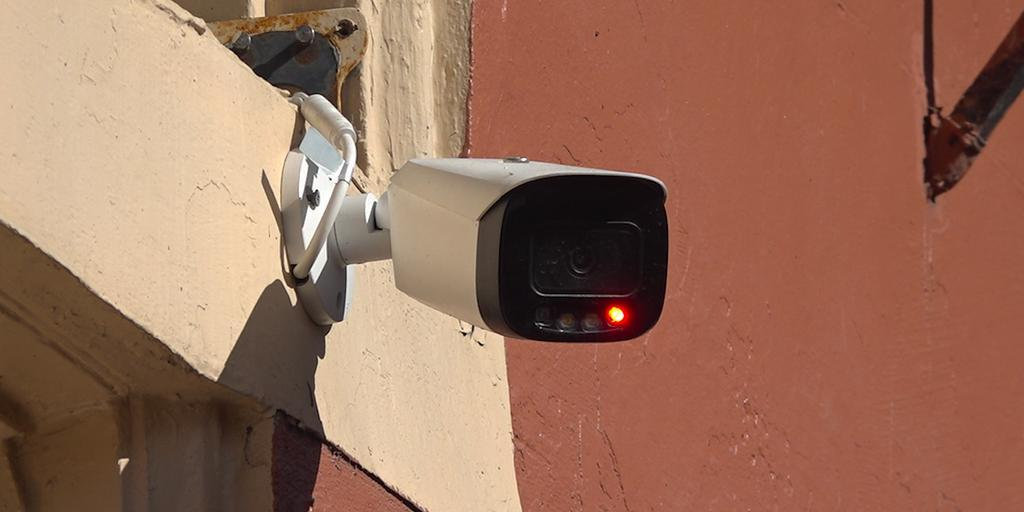camera: (369, 119, 698, 389)
